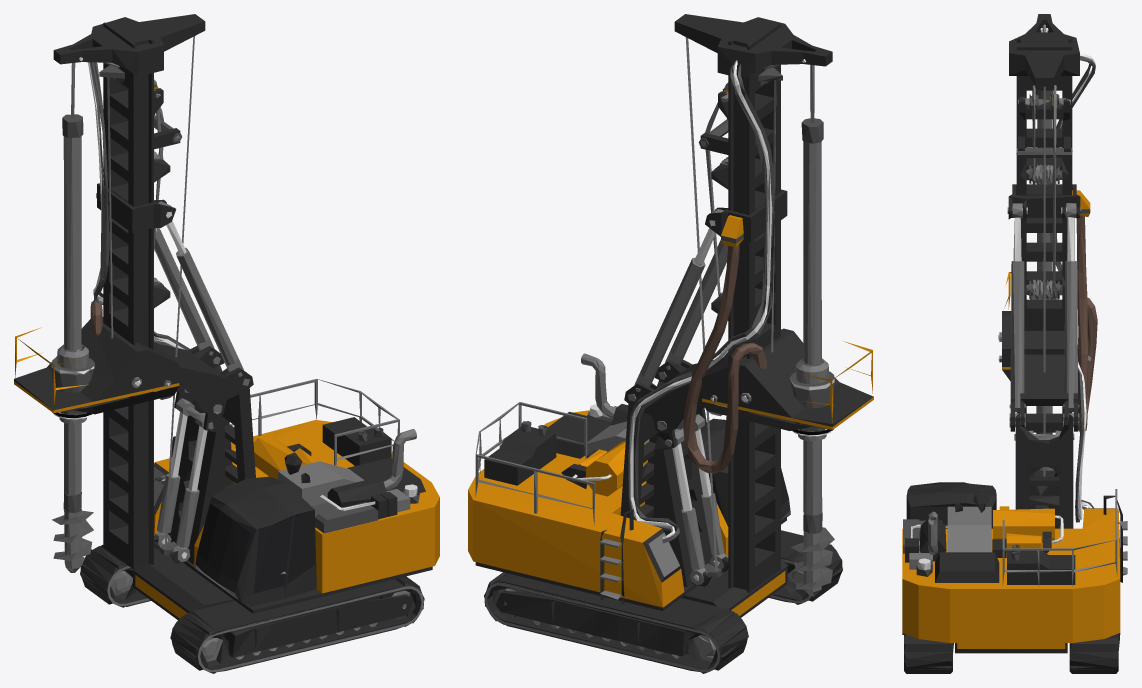
The model's file is drill-mini.glb.
3 views of the same model, side by side, from view 1: azimuth 30°, elevation 25°; view 2: azimuth 150°, elevation 25°; view 3: azimuth 270°, elevation 25° (orthographic). The views are drawn at different scales.
Bounding box in the file's own units: 6.28 × 10.22 × 3.87.
